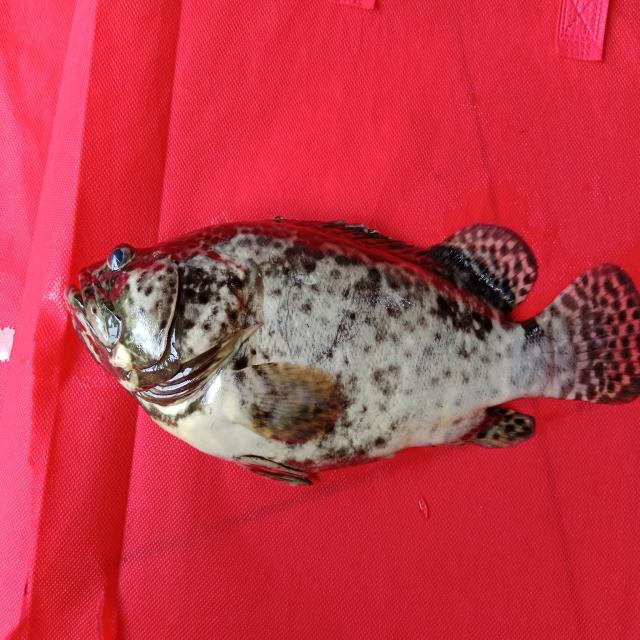ikan: (54, 163, 628, 495)
